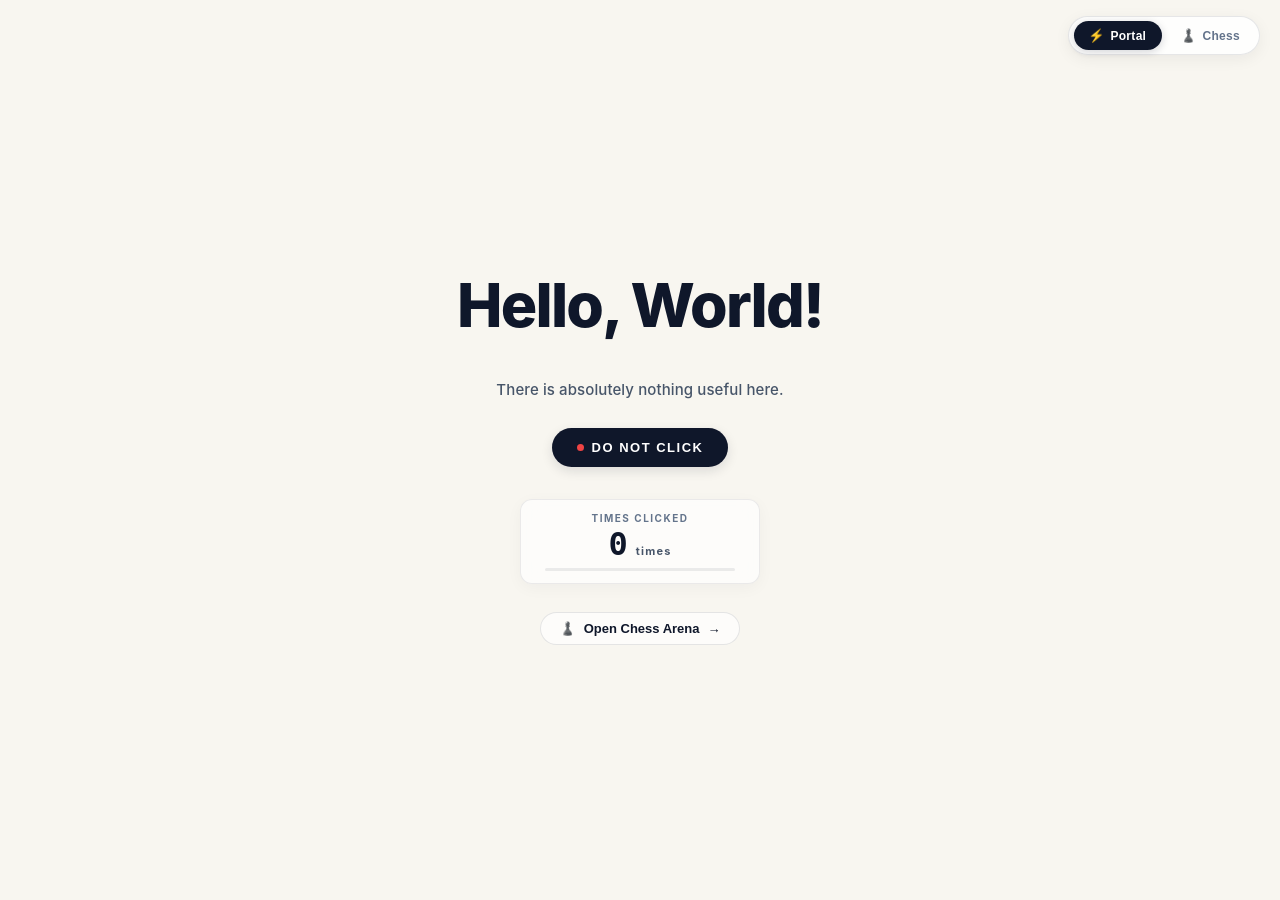
Test: renders corner dock tabs and chess navigation works
Step 1. Click the button with test id "tab-chess" → (1210, 36), box [1165,21,1255,50]
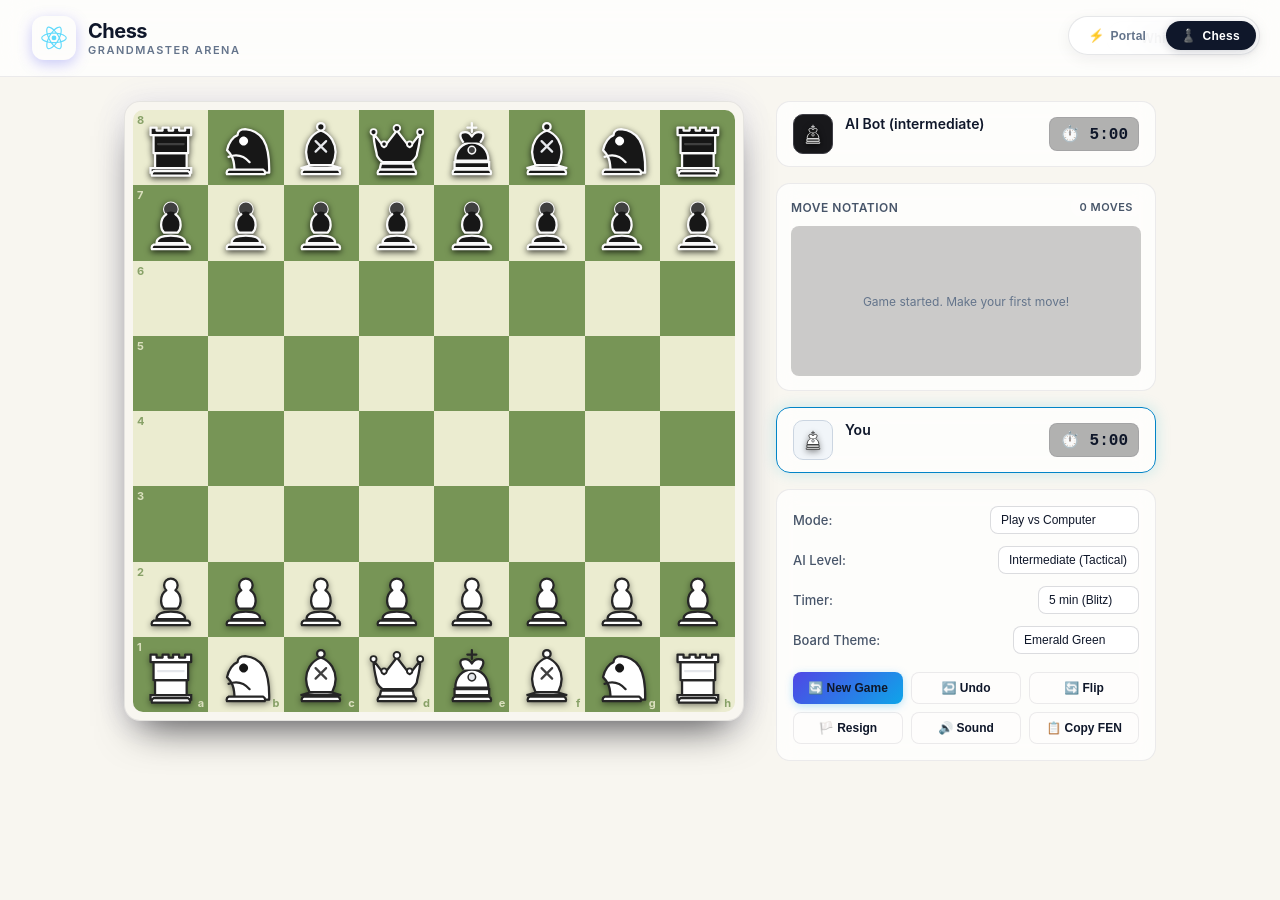
Expected: the number of elements with class "board-square" is 64
Expected: the text "White to move" is shown, [1141,30,1231,46]
Step 2. Click the button with test id "tab-portal" → (1117, 36), box [1073,21,1161,50]
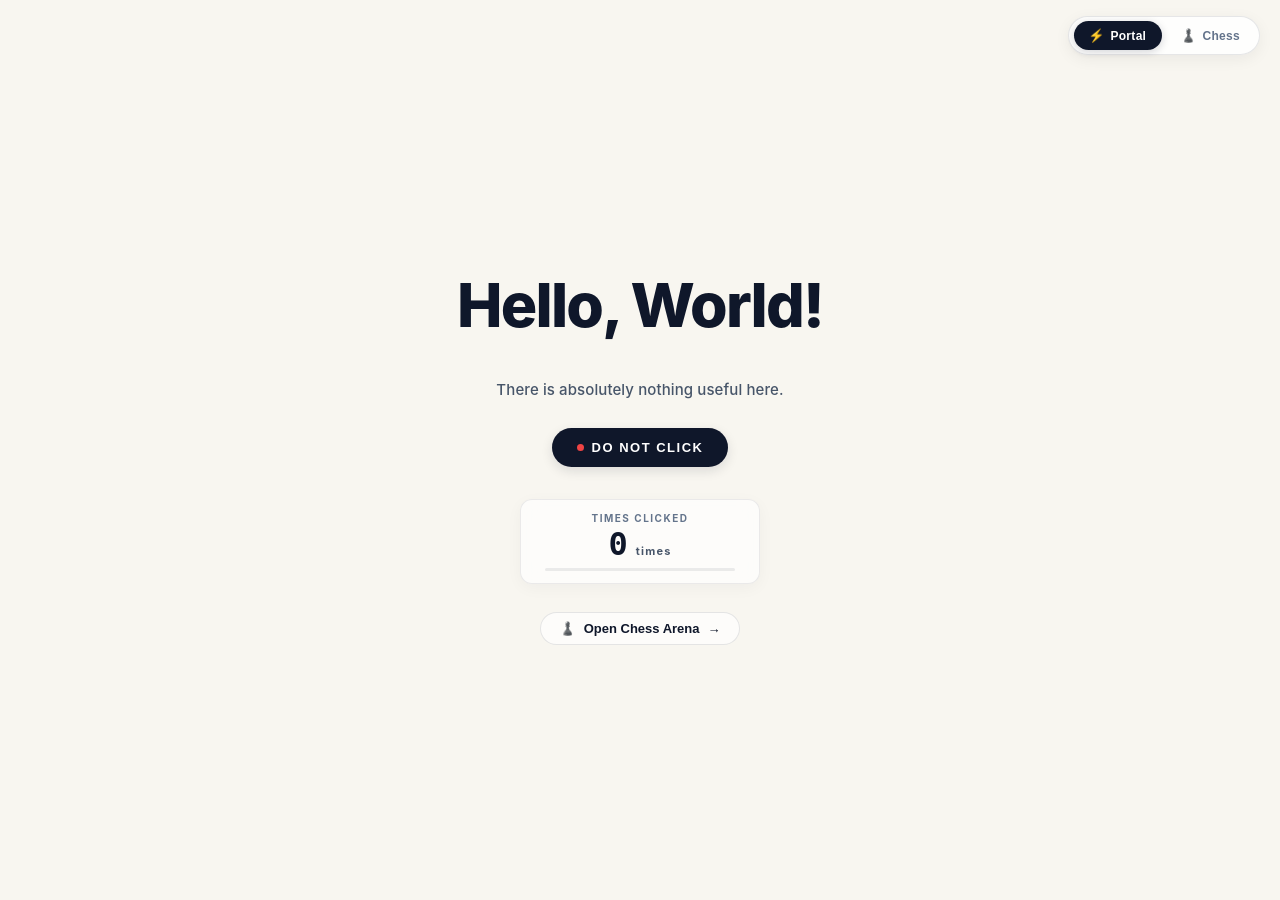
Expected: the button "DO NOT CLICK" is shown, [552,428,728,467]
